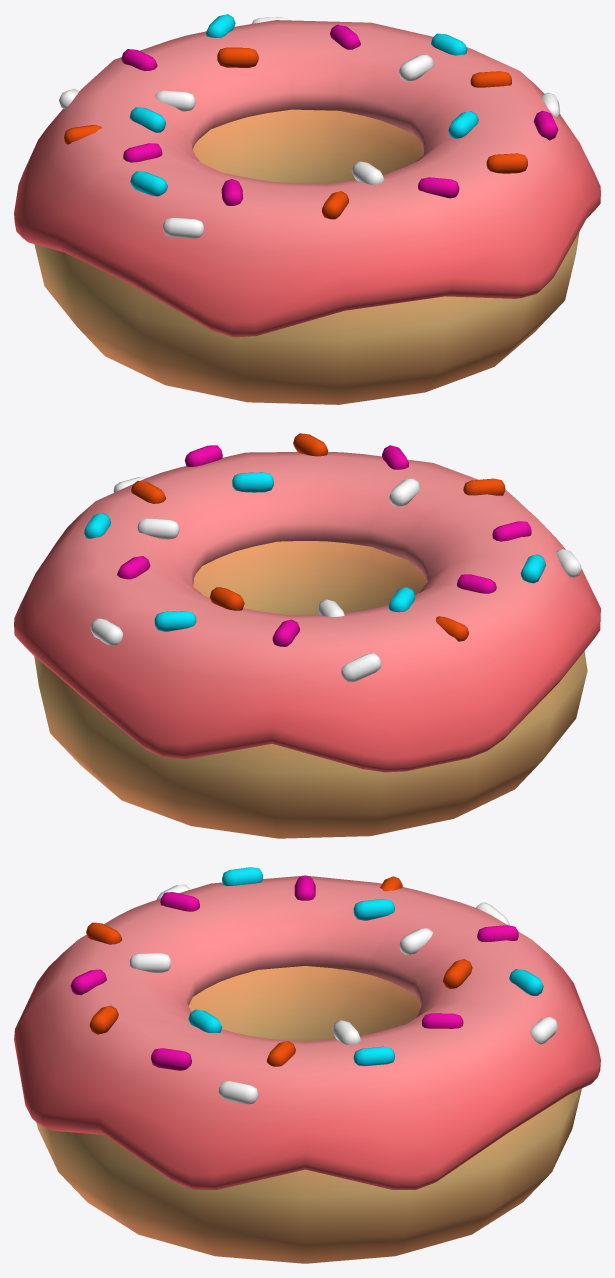
File: Donut_V3_00.fbx
The picture shows the model from 3 angles, top to bottom: view 1: azimuth 30°, elevation 25°; view 2: azimuth 150°, elevation 25°; view 3: azimuth 270°, elevation 25°; orthographic projection.
Visible parts, largest first — view 1: Donut_V3_00; view 2: Donut_V3_00; view 3: Donut_V3_00.
Boxes of the visible parts, bbox=[...] form: Donut_V3_00: bbox=[14, 14, 600, 404]; Donut_V3_00: bbox=[14, 433, 600, 838]; Donut_V3_00: bbox=[14, 867, 600, 1263].
Bounding box in the file's own units: 42.64 × 17.41 × 42.95.
